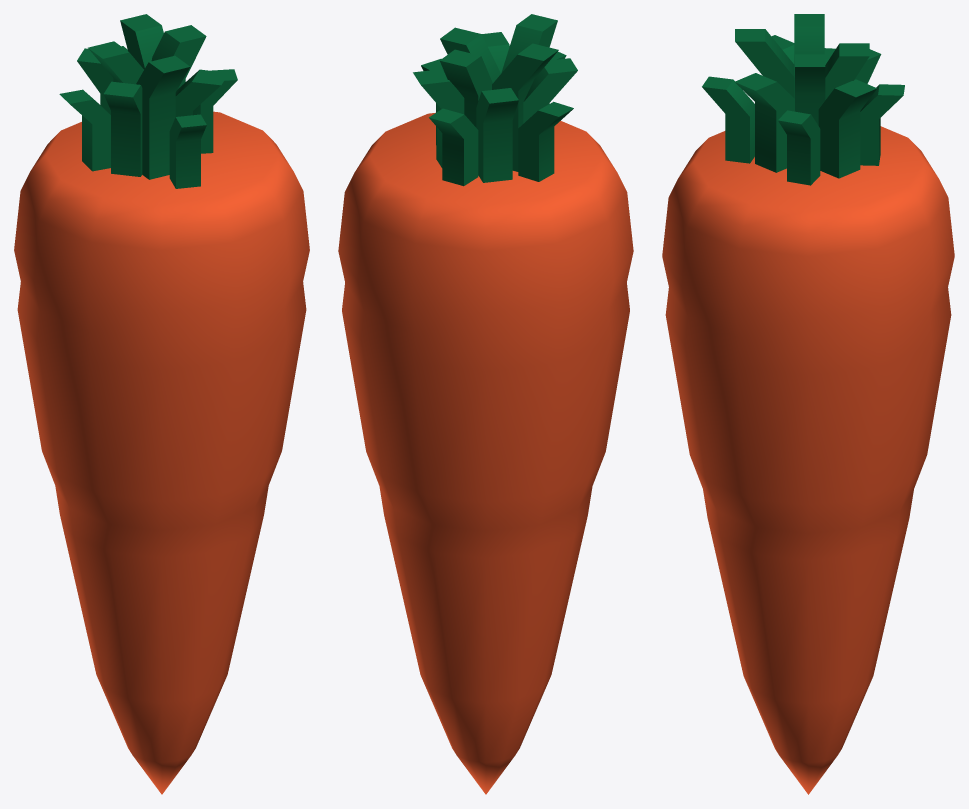
File: MM_GiantCarrot.fbx
3 views of the same model, side by side, from view 1: azimuth 30°, elevation 25°; view 2: azimuth 150°, elevation 25°; view 3: azimuth 270°, elevation 25° (orthographic).
Parts seen in each view (by area): view 1: MM_GiantCarrot; view 2: MM_GiantCarrot; view 3: MM_GiantCarrot.
Part boxes in pixels (bbox=[...]): MM_GiantCarrot: bbox=[14, 14, 309, 794]; MM_GiantCarrot: bbox=[338, 14, 633, 794]; MM_GiantCarrot: bbox=[662, 14, 954, 794].
Size of the model in its own units: 78.48 by 222 by 78.48.
